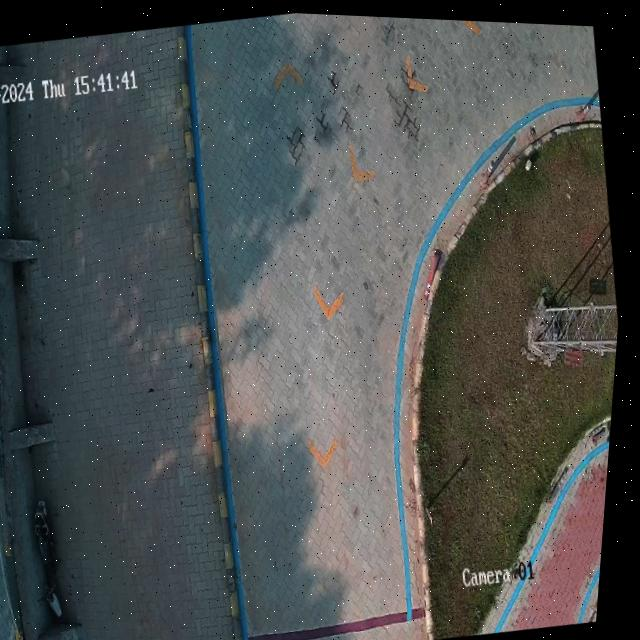No Car: (0, 10, 623, 640)
